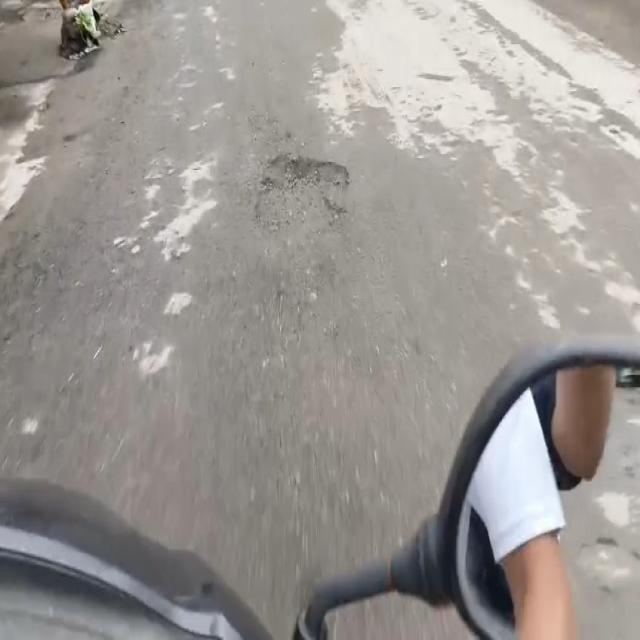road-pothole: (252, 153, 352, 245)
